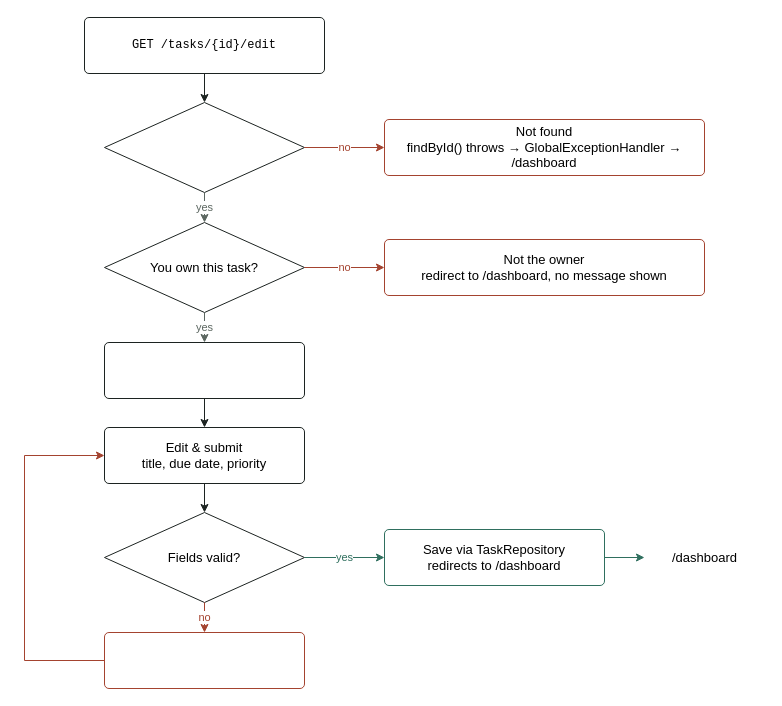
The diagram is 782 pixels wide and 706 high, and some of its shapes have lost their labels. The shapes that lost their labels are listed below. From the top down, each one's centre as x and y in pixels, then its label:
the point at 204,147: Task exists?
the point at 204,370: Prefill form with the task's current values
the point at 204,660: Redisplay form with field-level errors
